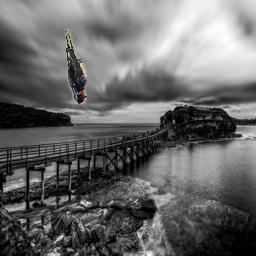Swallow: (63, 30, 87, 105)
